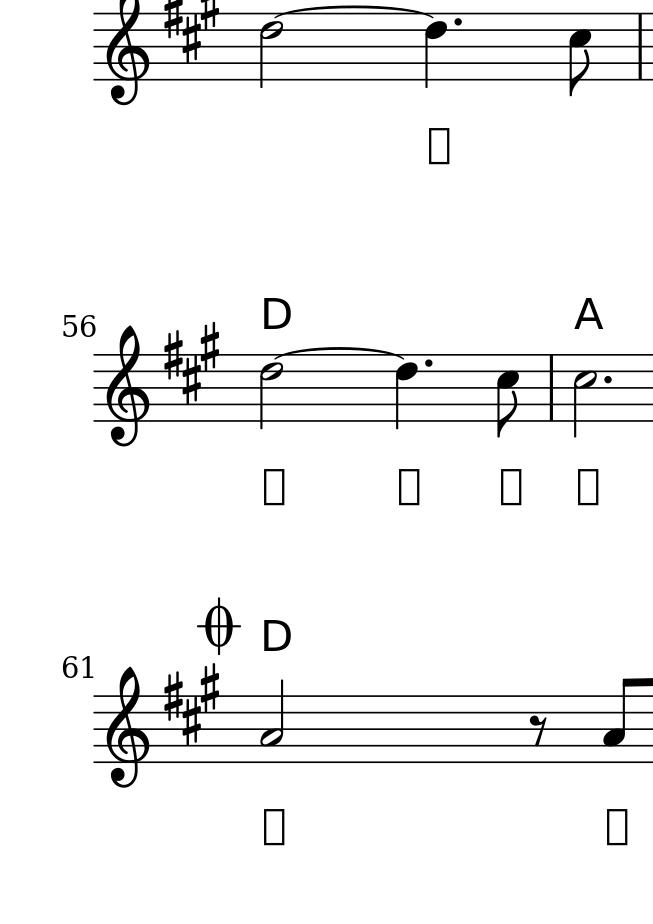1: (80, 652, 96, 684)
2_3: (260, 678, 288, 766)
2_5: (571, 352, 597, 438)
2_6: (258, 11, 285, 90), (259, 352, 285, 431)
4_6: (394, 353, 420, 429)
5: (61, 313, 79, 339)
6: (62, 652, 79, 682), (79, 313, 97, 340)
8_3: (603, 676, 636, 764)
8_5: (494, 353, 522, 441), (567, 11, 593, 100)
8_6: (423, 11, 450, 91)
Coda: (198, 596, 239, 656)
Gclef: (102, 657, 154, 796), (106, 319, 150, 450)
Rests8: (527, 712, 549, 746)
Single_barline: (632, 13, 648, 78), (545, 358, 559, 417)
Slur: (271, 5, 438, 20), (273, 345, 408, 363)
dot: (598, 369, 619, 389), (419, 353, 439, 373), (450, 11, 466, 32), (602, 373, 617, 389), (452, 14, 465, 31), (422, 356, 433, 371)
